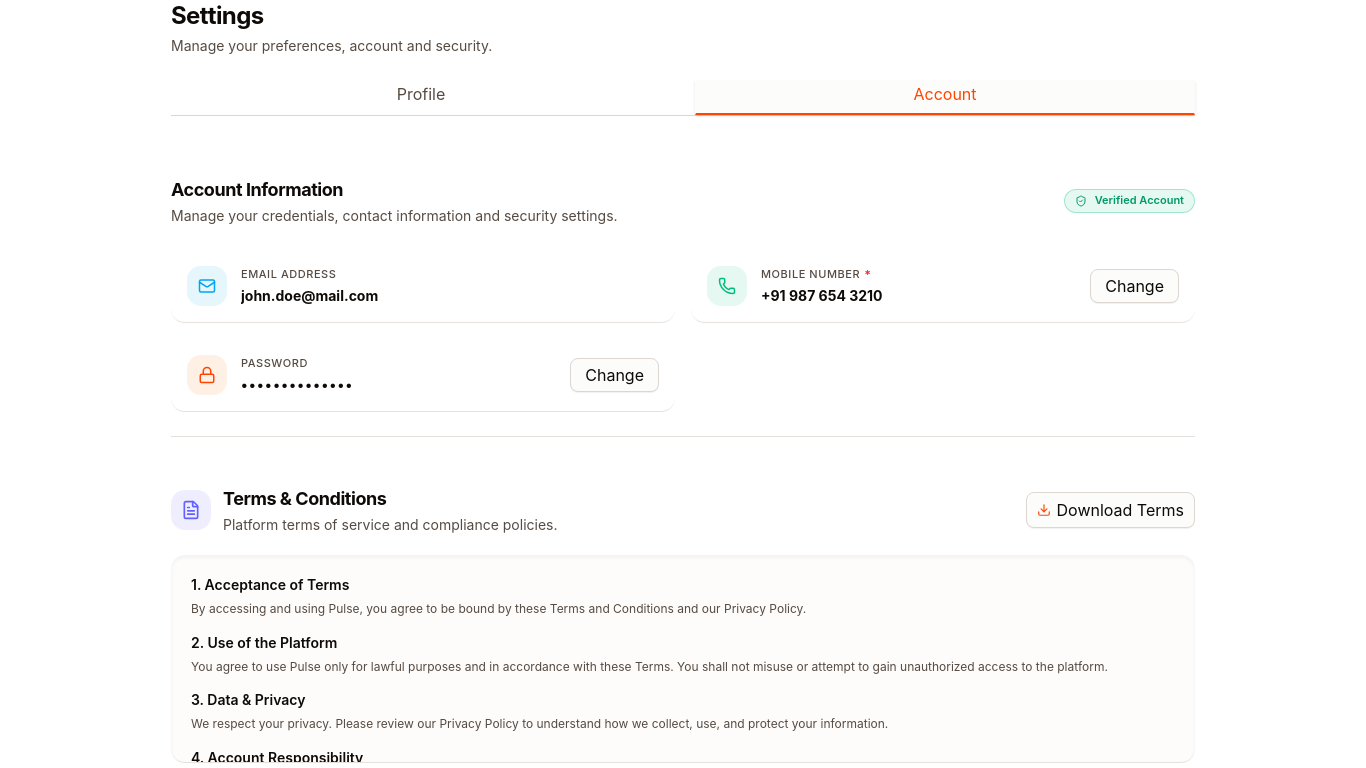
SettingsPage › opens Change Password modal on Account tab
Click the button "Change" in the row of "Password".
click(615, 375)  # box 570,358 -> 659,392
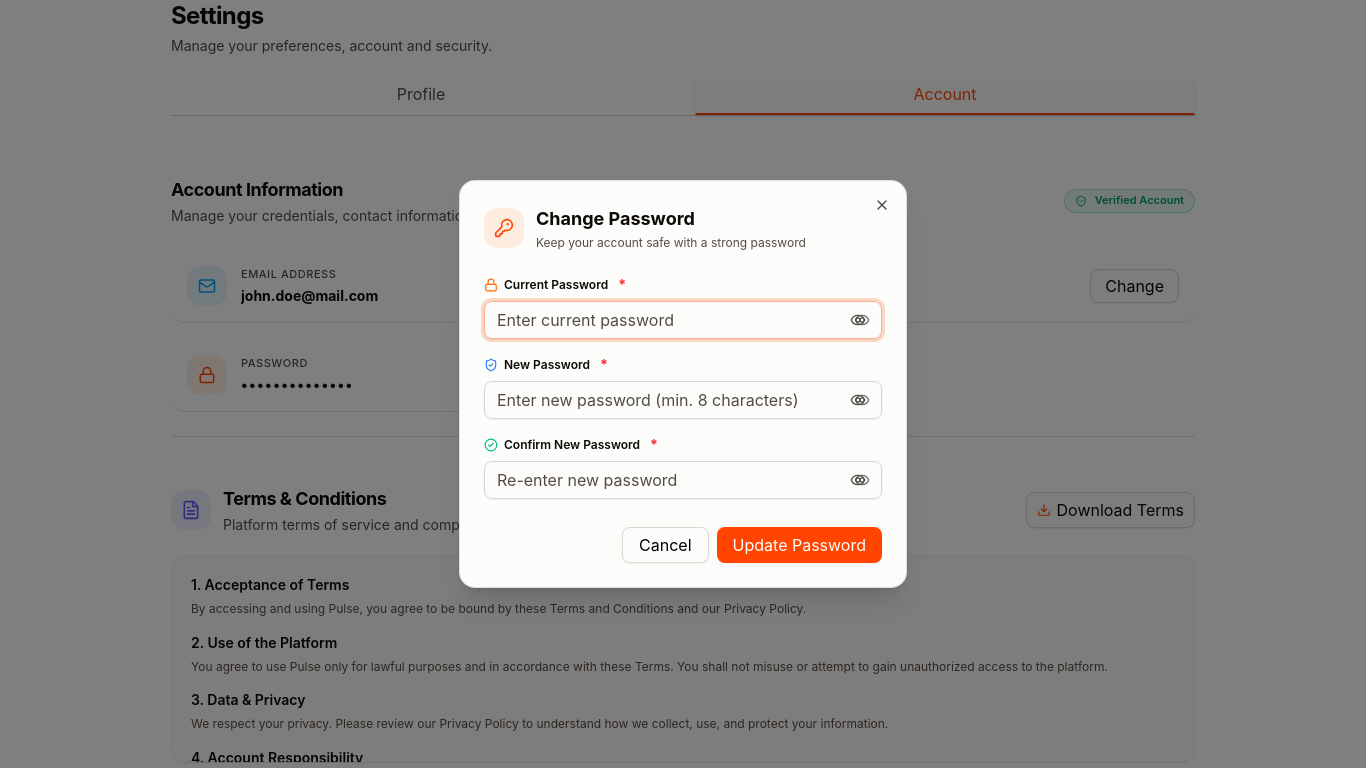
Check: the heading "Change Password" is shown, box 536,208 -> 695,229
Check: the password field labelled "Current Password" is shown, box 484,301 -> 882,339
Check: the password field labelled "New Password" is shown, box 484,381 -> 882,419
